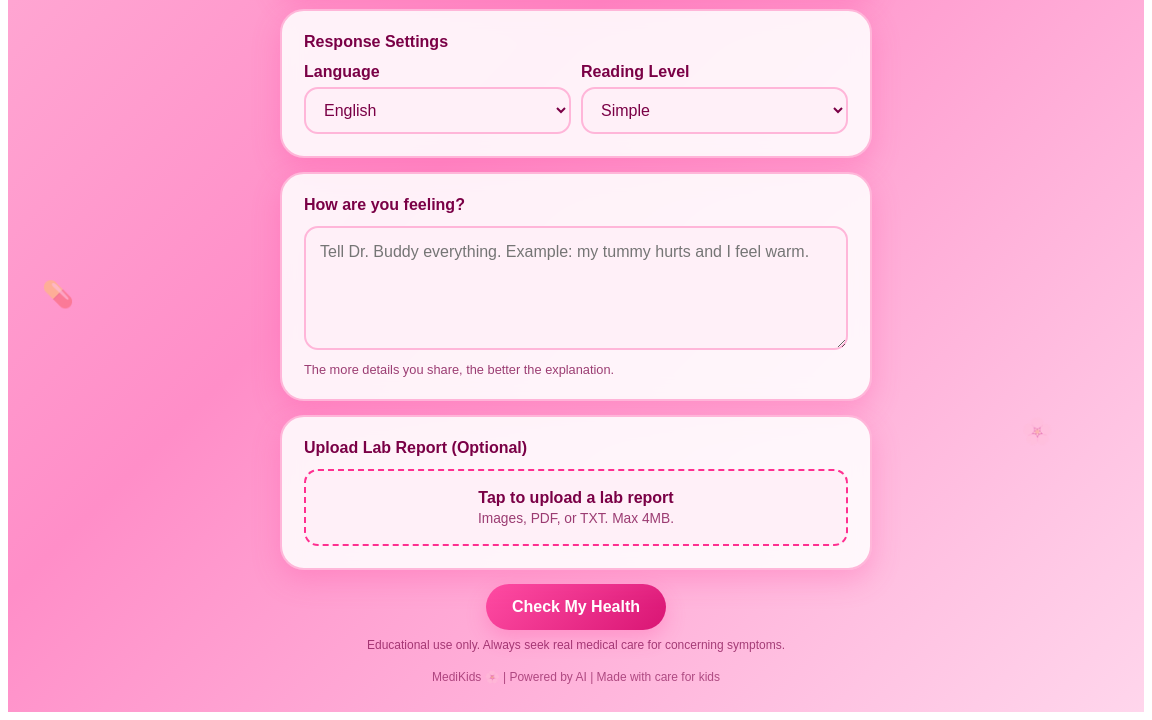
Test: App › shows validation message when symptoms are empty
(page scrolled)
Step 1. Click the button "Check My Health" → (576, 607), box [486,584,666,630]
(page scrolled)
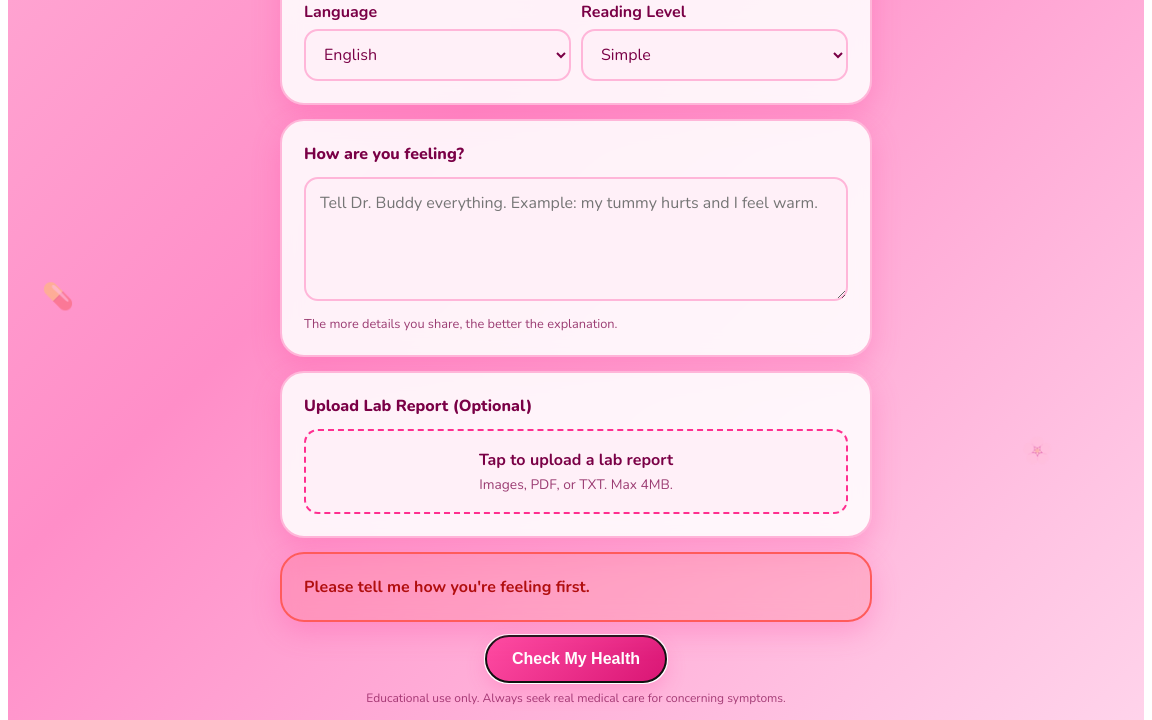
Expected: the text "Please tell me how you're feeling first." is shown, [304,576,590,598]
